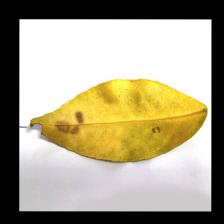black spot: (22, 108, 97, 141)
